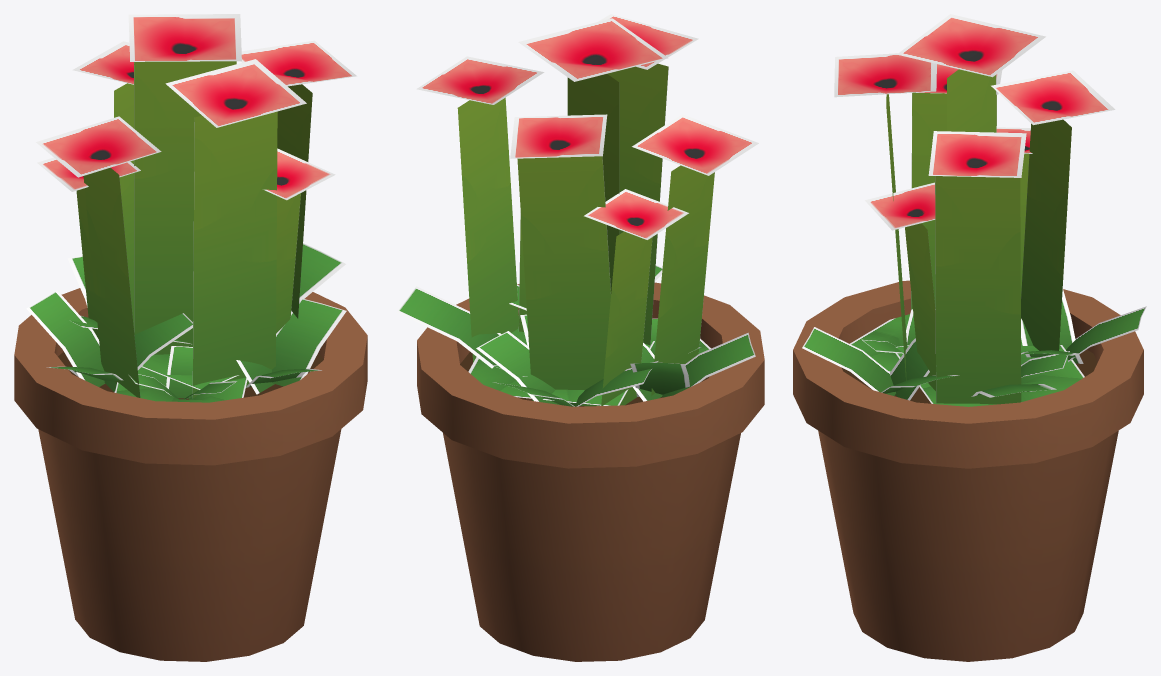
Rendered from FlowerPot_01.glb.
The picture shows the model from 3 angles, left to right: view 1: azimuth 30°, elevation 25°; view 2: azimuth 150°, elevation 25°; view 3: azimuth 270°, elevation 25°; orthographic projection.
Visible parts, largest first — view 1: FlowerPot_01_LOD0; view 2: FlowerPot_01_LOD0; view 3: FlowerPot_01_LOD0.
Part boxes in pixels (x1=…): FlowerPot_01_LOD0: x1=14, y1=14, x2=367, y2=661; FlowerPot_01_LOD0: x1=396, y1=14, x2=764, y2=661; FlowerPot_01_LOD0: x1=793, y1=14, x2=1146, y2=661.
Size of what is drawn, in the model's own units: 0.2328 by 0.3956 by 0.2242.
Materials: 2 (2 with a texture image).
